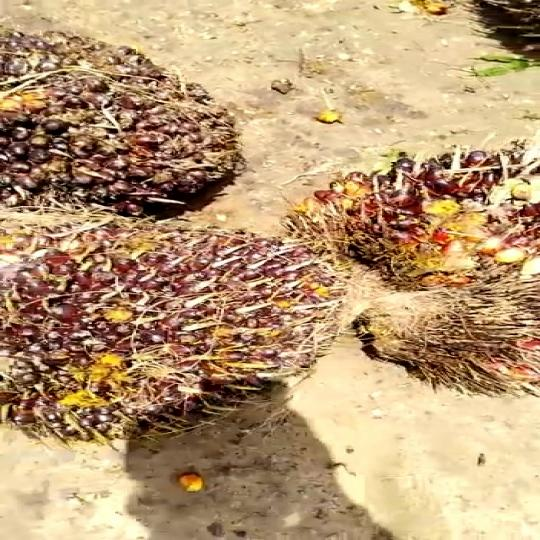kurang masak: (0, 206, 341, 446), (0, 1, 259, 240), (310, 125, 540, 383)
